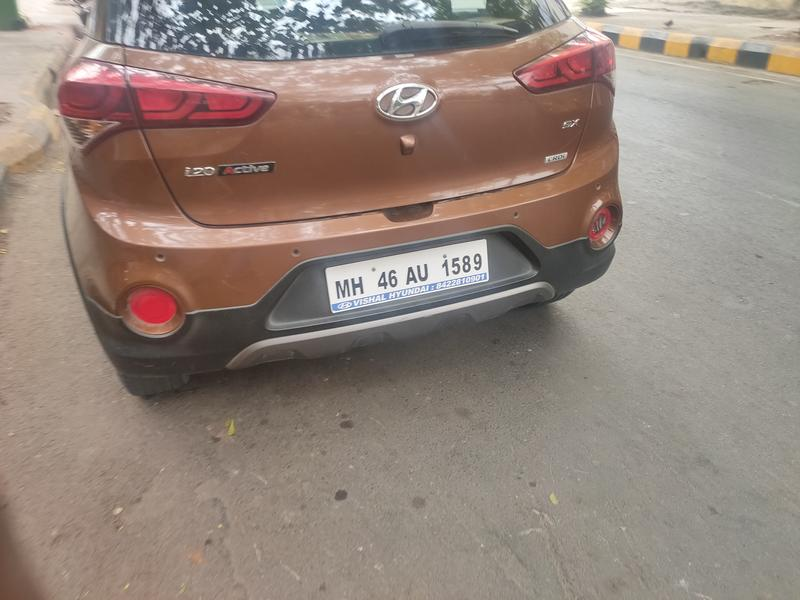license_plate: (317, 232, 504, 303)
